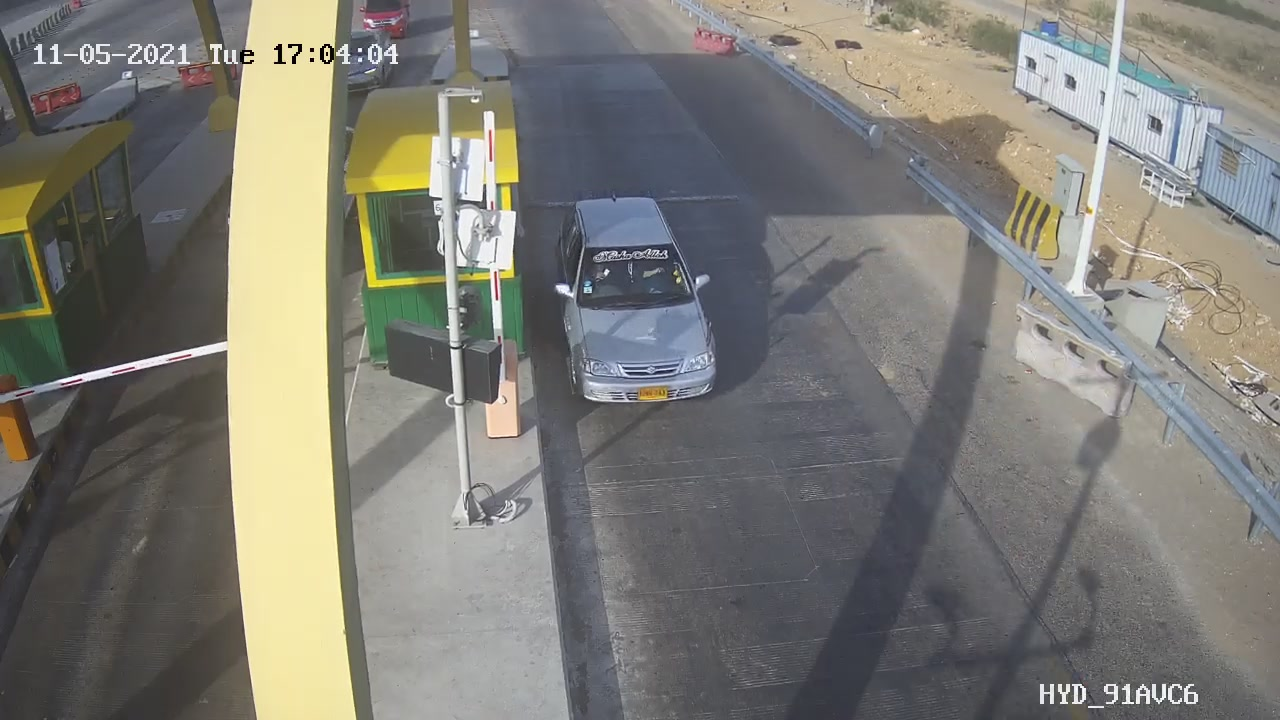F1: (538, 182, 737, 426)
